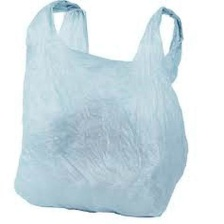plastic_bag: (10, 0, 206, 219)
